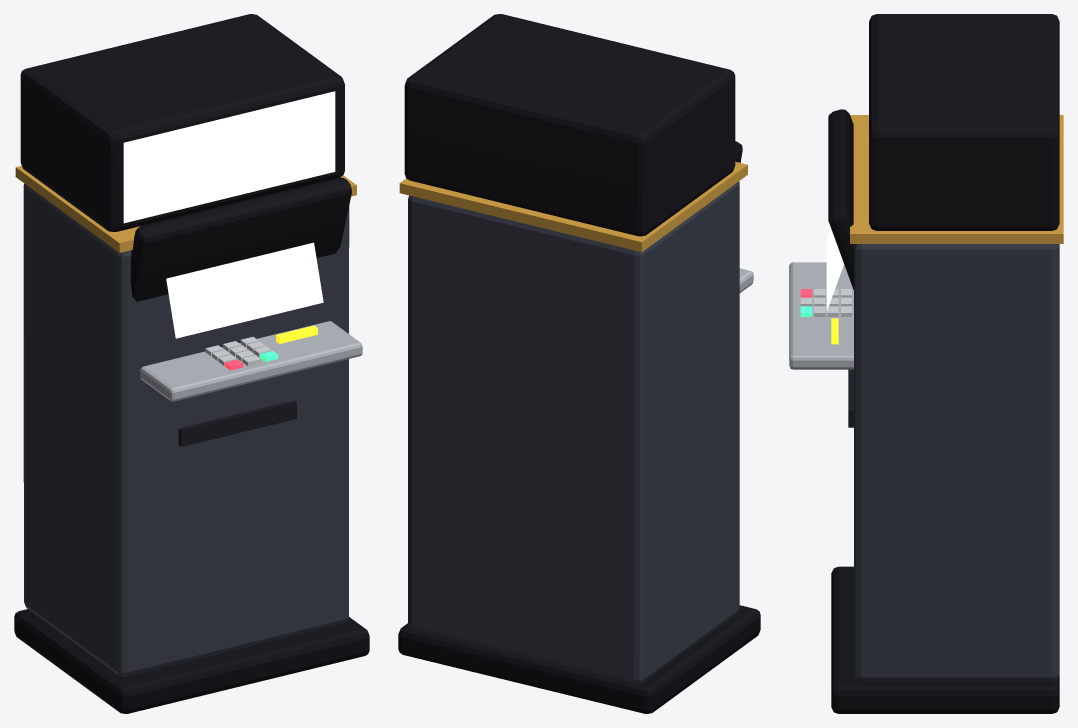
File: atm.glb
The picture shows the model from 3 angles, left to right: view 1: azimuth 30°, elevation 25°; view 2: azimuth 150°, elevation 25°; view 3: azimuth 270°, elevation 25°; orthographic projection. The views are drawn at different scales.
Parts seen in each view (by area): view 1: atm_lod0; view 2: atm_lod0; view 3: atm_lod0.
Part boxes in pixels (x1,y1,x2,y2): atm_lod0: (14,14,369,713); atm_lod0: (398,14,760,713); atm_lod0: (789,14,1063,713).
Size of what is drawn, in the model's own units: 0.7803 by 1.69 by 0.7202.
